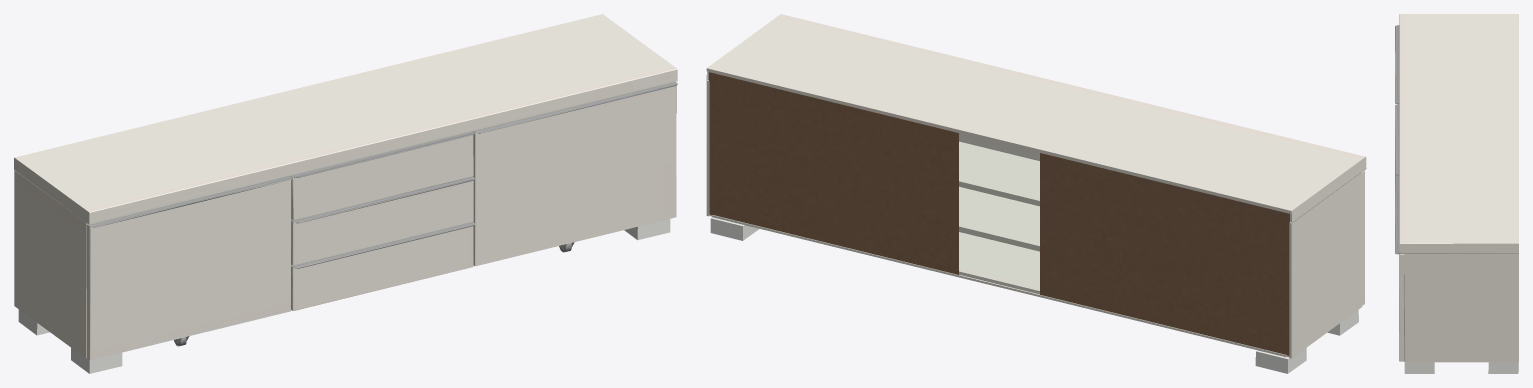
Rendered from s9mi89c2ogu0.glb.
3 renders of one model, left to right at view 1: azimuth 30°, elevation 25°; view 2: azimuth 150°, elevation 25°; view 3: azimuth 270°, elevation 25°, orthographic. The views are drawn at different scales.
Visible parts, largest first — view 1: 30269129-BESTÃƒâ€¦ BURS001; view 2: 30269129-BESTÃƒâ€¦ BURS001; view 3: 30269129-BESTÃƒâ€¦ BURS001.
Part boxes in pixels (left/top/right/bottom): 30269129-BESTÃƒâ€¦ BURS001: left=14, top=14, right=677, bottom=373; 30269129-BESTÃƒâ€¦ BURS001: left=706, top=14, right=1366, bottom=373; 30269129-BESTÃƒâ€¦ BURS001: left=1395, top=14, right=1518, bottom=373.
Size of the model in its own units: 1.8 by 0.4831 by 0.4102.
Materials: 1 (1 with a texture image).
